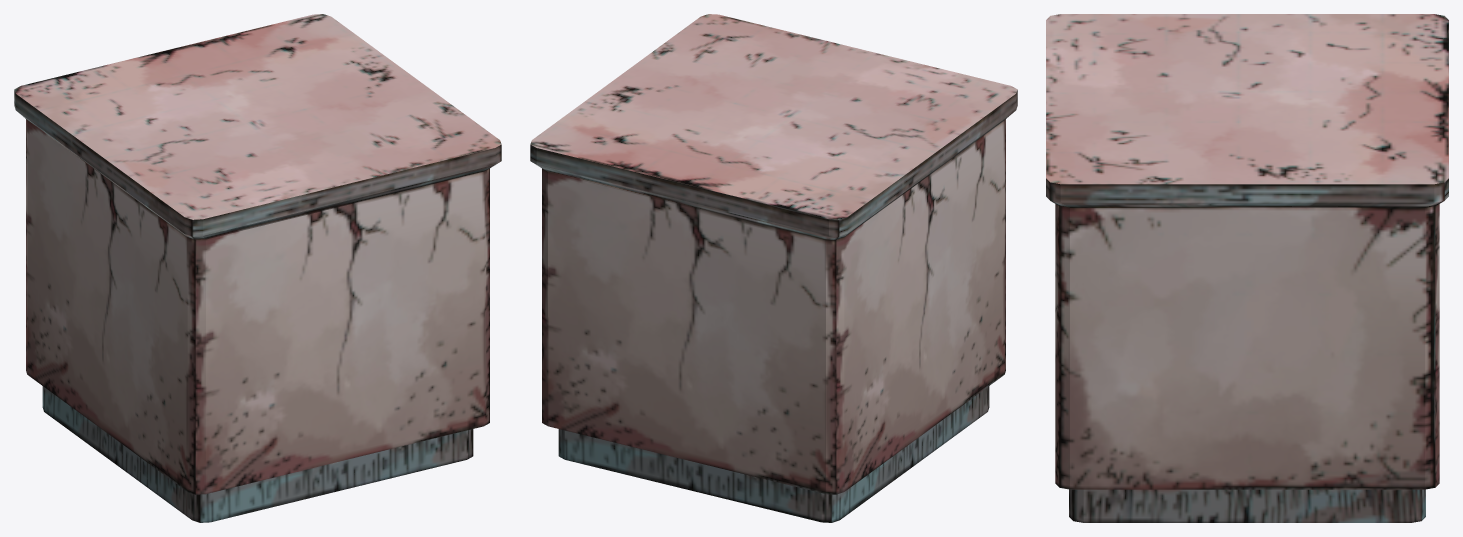
The model's file is CounterTop1.fbx.
The picture shows the model from 3 angles, left to right: view 1: azimuth 30°, elevation 25°; view 2: azimuth 150°, elevation 25°; view 3: azimuth 270°, elevation 25°; orthographic projection. The views are drawn at different scales.
Visible parts, largest first — view 1: CounterTop1; view 2: CounterTop1; view 3: CounterTop1.
Part boxes in pixels (x1=…): CounterTop1: x1=14, y1=14, x2=501, y2=522; CounterTop1: x1=530, y1=14, x2=1017, y2=522; CounterTop1: x1=1046, y1=14, x2=1448, y2=522.
Size of the model in its own units: 96.14 by 91.71 by 96.14.
